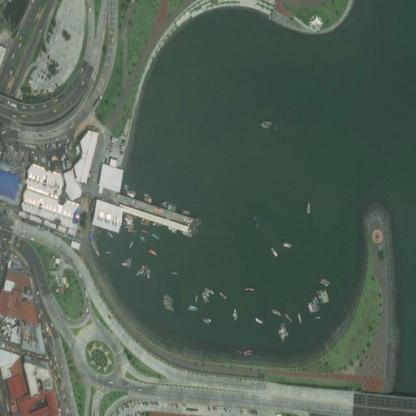ship: (303, 286, 336, 314), (254, 115, 280, 134), (133, 260, 154, 282), (136, 224, 160, 243), (158, 289, 176, 314), (121, 206, 137, 234), (199, 278, 215, 306), (275, 318, 290, 344), (233, 342, 256, 358), (315, 270, 336, 287), (157, 196, 175, 213), (249, 212, 263, 232), (139, 186, 153, 206), (119, 252, 135, 269), (178, 201, 193, 219), (122, 179, 136, 198), (281, 234, 293, 254), (249, 312, 265, 327), (280, 303, 292, 323), (302, 197, 313, 217), (265, 243, 280, 257), (242, 282, 256, 296), (267, 304, 281, 317), (185, 301, 200, 313), (166, 266, 181, 278), (200, 314, 215, 326), (230, 305, 240, 323), (100, 245, 114, 257), (293, 309, 304, 324), (217, 286, 228, 300), (105, 225, 115, 240), (146, 245, 158, 257), (139, 216, 150, 228), (190, 291, 198, 302)
